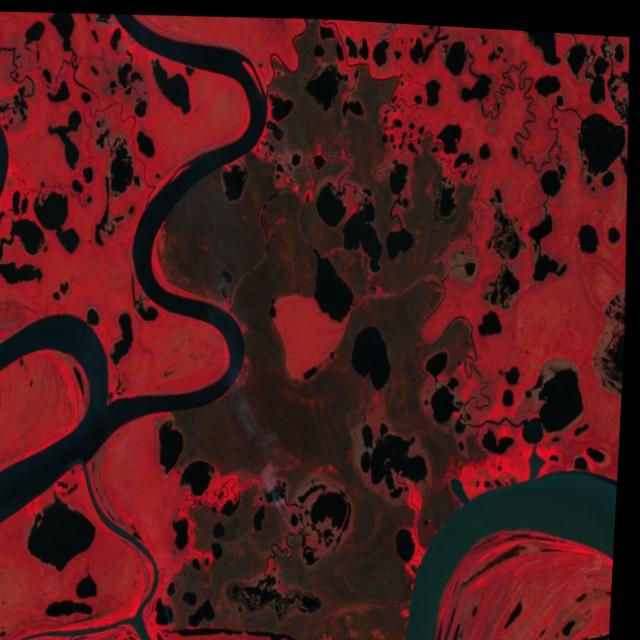fire: (265, 472, 312, 531), (278, 143, 322, 194), (172, 610, 227, 632)
